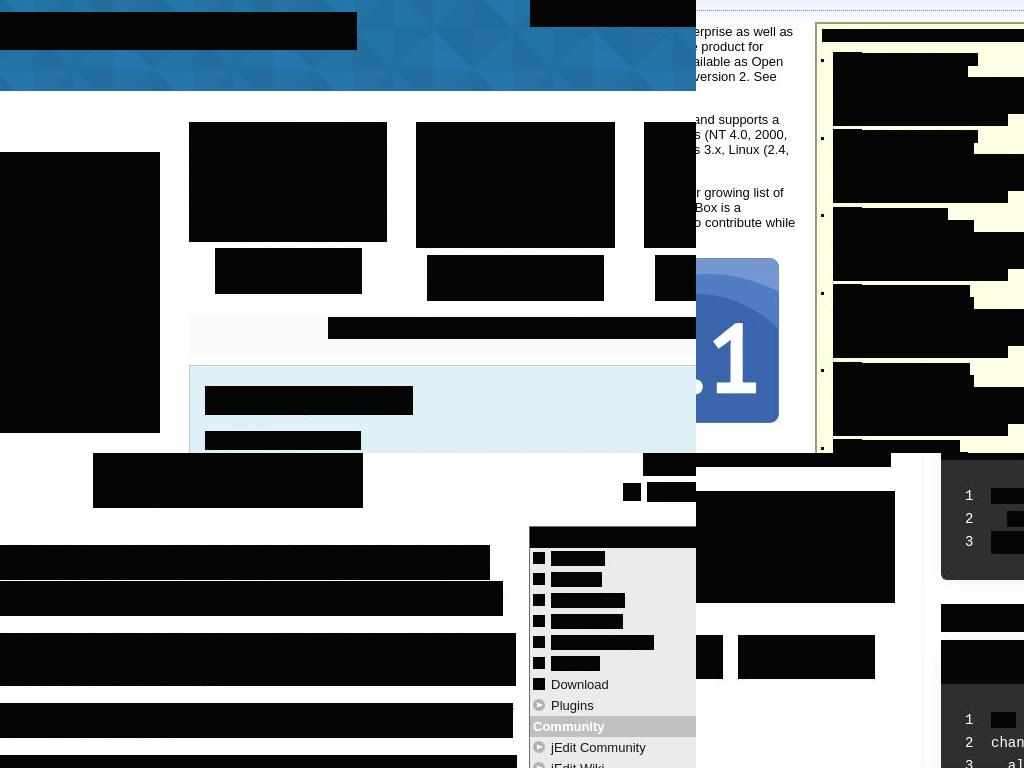button: (696, 257, 1024, 423), (0, 152, 160, 193), (0, 192, 160, 233), (0, 232, 160, 273), (0, 272, 160, 313), (0, 312, 160, 353), (0, 352, 160, 393), (0, 392, 160, 433), (738, 635, 875, 679), (941, 640, 1024, 684), (738, 646, 875, 667)
heading: (0, 12, 357, 50), (427, 255, 604, 301), (215, 248, 362, 294), (205, 386, 413, 415), (822, 29, 1024, 42), (655, 255, 696, 301)
image: (416, 122, 615, 248), (189, 122, 387, 242), (93, 453, 363, 508), (644, 122, 696, 248), (599, 0, 696, 27), (643, 453, 696, 476), (623, 483, 641, 501), (533, 552, 545, 564), (533, 573, 545, 585), (533, 594, 545, 606), (533, 615, 545, 627), (533, 636, 545, 648), (533, 657, 545, 669), (533, 678, 545, 690), (533, 699, 545, 711), (533, 741, 545, 753), (533, 762, 545, 768)
link: (10, 721, 203, 738), (577, 317, 696, 339), (456, 317, 545, 339), (551, 635, 654, 650), (551, 740, 646, 755), (63, 599, 143, 616), (0, 581, 66, 598), (551, 593, 625, 608), (551, 614, 623, 629), (157, 669, 216, 686), (647, 482, 696, 502), (342, 703, 394, 720), (551, 677, 609, 692), (551, 551, 605, 566), (551, 572, 602, 587), (551, 656, 600, 671), (937, 101, 991, 114), (937, 178, 991, 191), (937, 256, 991, 269), (937, 333, 991, 346), (937, 411, 991, 424), (551, 698, 594, 713), (551, 761, 604, 768)
text: (0, 633, 516, 686), (696, 491, 895, 603), (696, 184, 1024, 245), (0, 703, 513, 738), (0, 581, 503, 616), (0, 545, 490, 580), (833, 77, 1024, 114), (833, 154, 1024, 191), (833, 232, 1024, 269), (833, 309, 1024, 346), (833, 387, 1024, 424), (0, 755, 517, 768), (0, 703, 343, 720), (833, 101, 1008, 126), (833, 178, 1008, 203), (833, 256, 1008, 281), (833, 333, 1008, 358), (833, 411, 1008, 436), (530, 527, 696, 548), (205, 431, 361, 450), (328, 317, 457, 339), (833, 142, 974, 155), (833, 220, 974, 233), (833, 297, 974, 310), (833, 375, 974, 388), (833, 65, 968, 78), (862, 53, 978, 66), (862, 130, 978, 143), (862, 285, 970, 298), (862, 363, 970, 376), (862, 440, 960, 453), (129, 192, 160, 233), (129, 232, 160, 273), (129, 392, 160, 433), (862, 208, 948, 221), (533, 719, 605, 734), (142, 599, 187, 616), (544, 317, 578, 339), (991, 488, 1024, 504), (991, 735, 1024, 751), (833, 52, 862, 67), (833, 129, 862, 144), (833, 207, 862, 222), (833, 284, 862, 299), (833, 362, 862, 377), (833, 439, 862, 453), (991, 712, 1016, 728), (991, 758, 1024, 768), (1007, 511, 1024, 527), (216, 669, 222, 686), (201, 721, 206, 738)
